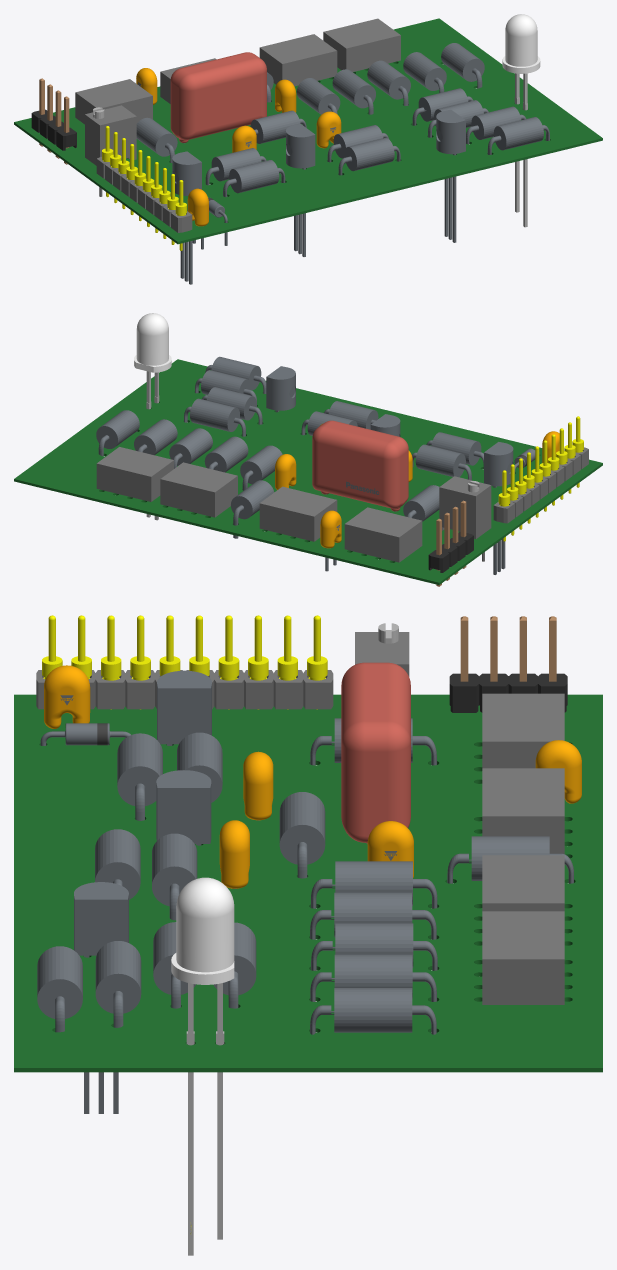
Rendered from PCB.glb.
3 views of the same model, one above another, from view 1: azimuth 30°, elevation 25°; view 2: azimuth 150°, elevation 25°; view 3: azimuth 270°, elevation 25° (orthographic). The views are drawn at different scales.
Visible parts, largest first — view 1: Open CASCADE STEP translator 7.5 74.1.1, 2, Cylinder, Body, body, WP7113, _-101-G-A_pins, _TS-110-G-A_socket, 61300411121, 6130xx11121_PIN; view 2: Open CASCADE STEP translator 7.5 74.1.1, 2, Cylinder, Body, _-101-G-A_pins, WP7113, body, _TS-110-G-A_socket, 61300411121, 6130xx11121_PIN; view 3: Open CASCADE STEP translator 7.5 74.1.1, 2, Cylinder, Body, body, WP7113, _-101-G-A_pins, _TS-110-G-A_socket, 61300411121, 6130xx11121_PIN.
Boxes of the visible parts, bbox=[...] form: Open CASCADE STEP translator 7.5 74.1.1: bbox=[14, 18, 602, 244]; 2: bbox=[136, 43, 549, 284]; Cylinder: bbox=[75, 18, 400, 196]; Body: bbox=[170, 52, 266, 142]; body: bbox=[136, 68, 341, 226]; WP7113: bbox=[93, 14, 540, 227]; _-101-G-A_pins: bbox=[102, 126, 186, 250]; _TS-110-G-A_socket: bbox=[96, 157, 192, 232]; 61300411121: bbox=[31, 109, 76, 150]; 6130xx11121_PIN: bbox=[39, 78, 69, 164]; Open CASCADE STEP translator 7.5 74.1.1: bbox=[14, 359, 602, 584]; 2: bbox=[96, 356, 539, 574]; Cylinder: bbox=[96, 447, 491, 562]; Body: bbox=[312, 420, 408, 511]; _-101-G-A_pins: bbox=[498, 416, 583, 541]; WP7113: bbox=[134, 313, 479, 520]; body: bbox=[275, 424, 559, 548]; _TS-110-G-A_socket: bbox=[493, 447, 588, 523]; 61300411121: bbox=[428, 532, 473, 572]; 6130xx11121_PIN: bbox=[436, 500, 466, 586]; Open CASCADE STEP translator 7.5 74.1.1: bbox=[14, 694, 602, 1072]; 2: bbox=[37, 670, 573, 1113]; Cylinder: bbox=[355, 632, 564, 1004]; Body: bbox=[341, 662, 410, 844]; body: bbox=[44, 665, 581, 888]; WP7113: bbox=[171, 623, 398, 1255]; _-101-G-A_pins: bbox=[42, 615, 327, 709]; _TS-110-G-A_socket: bbox=[36, 670, 333, 709]; 61300411121: bbox=[449, 673, 567, 712]; 6130xx11121_PIN: bbox=[460, 616, 556, 681].
Bounding box in the file's own units: 0.0762 × 0.0356 × 0.0508.
